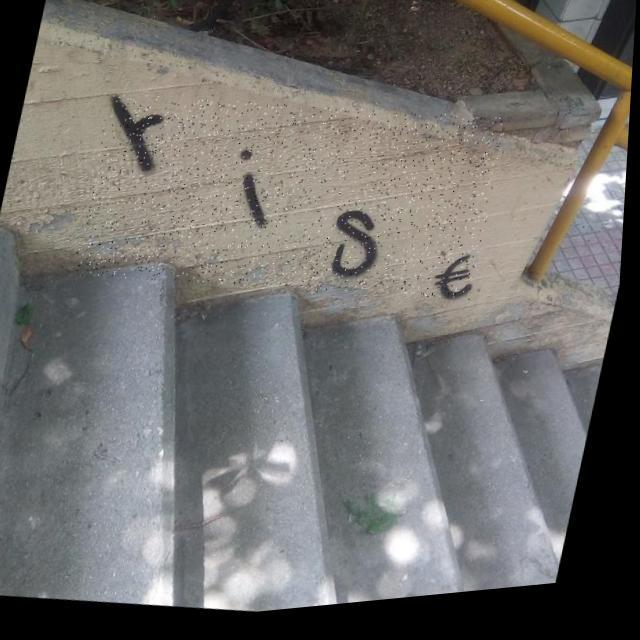-: (73, 66, 513, 340)
